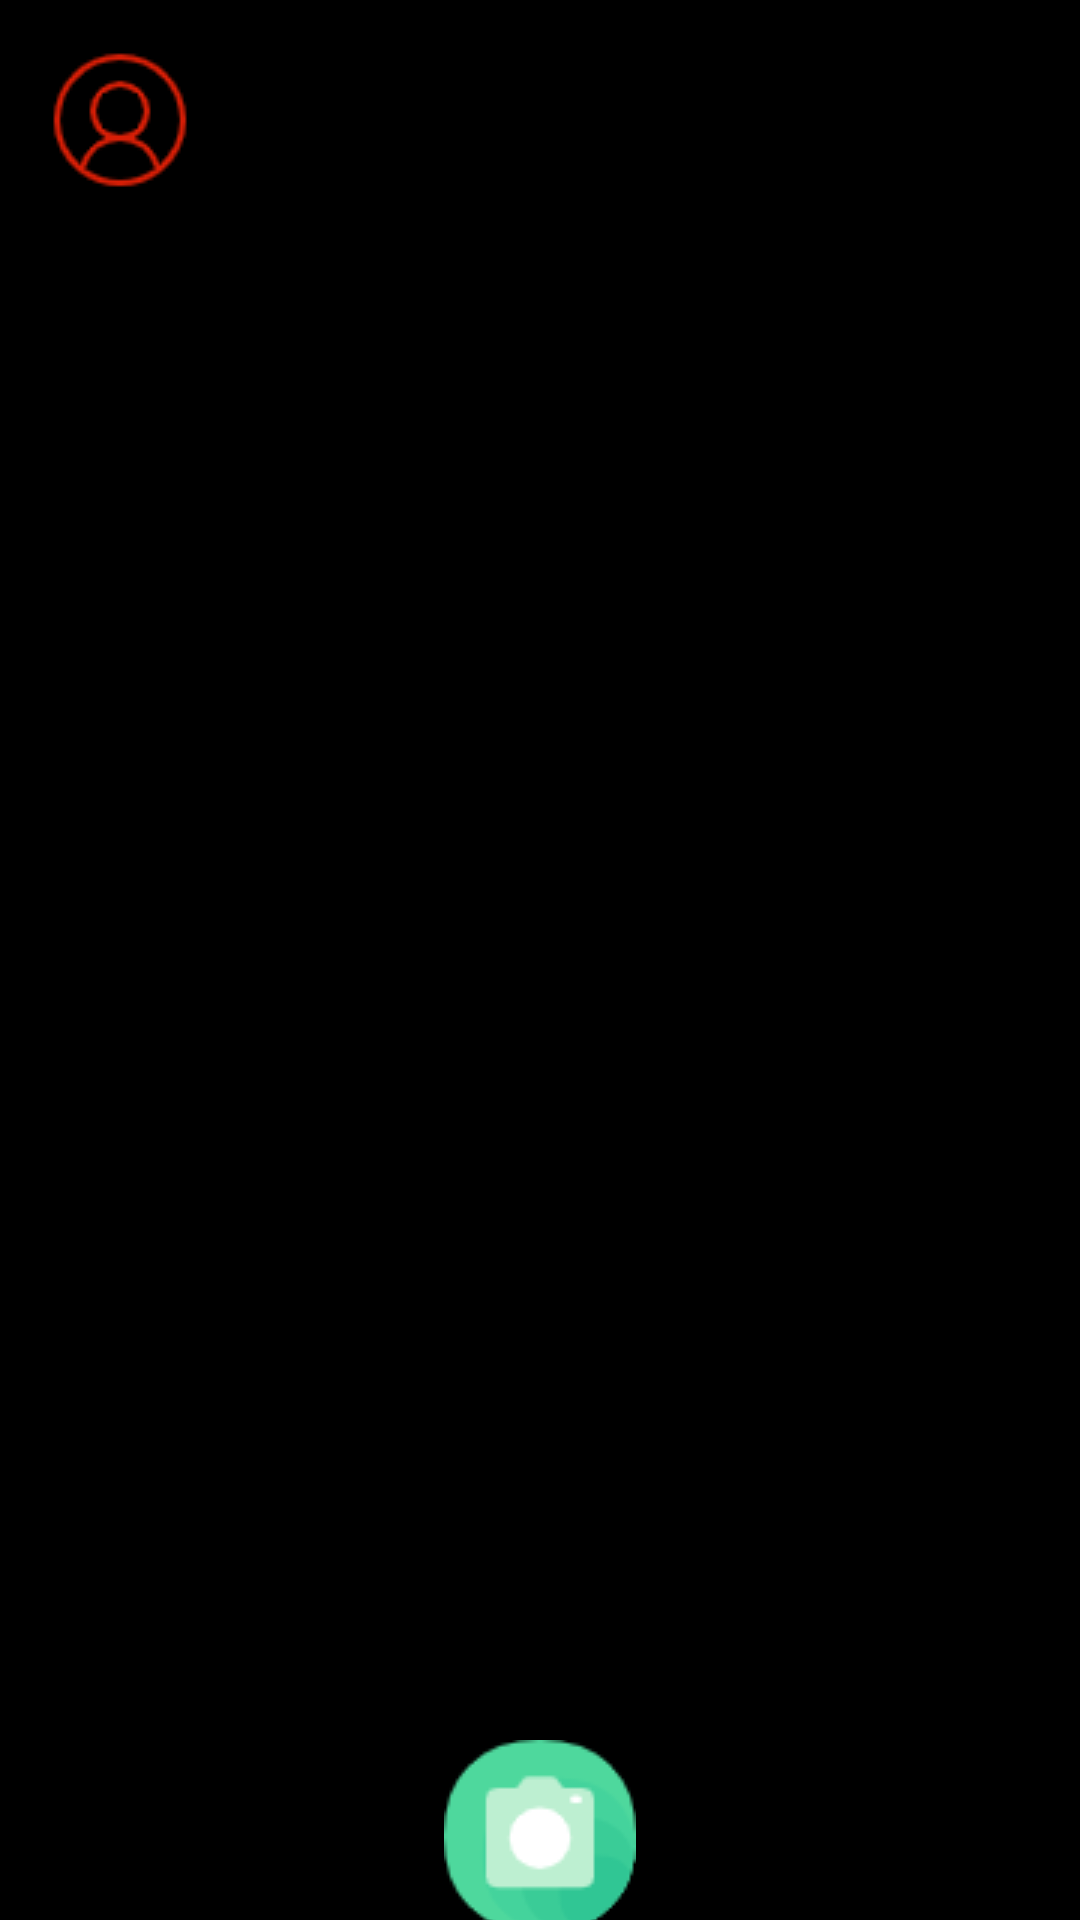

Locate icon controls on the screen. Image size 1080 x 1920, boxes as (x1, y1, x2, y2).
login: (53, 53, 187, 187)
